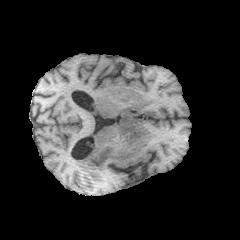glioma: (72, 109, 145, 173)
